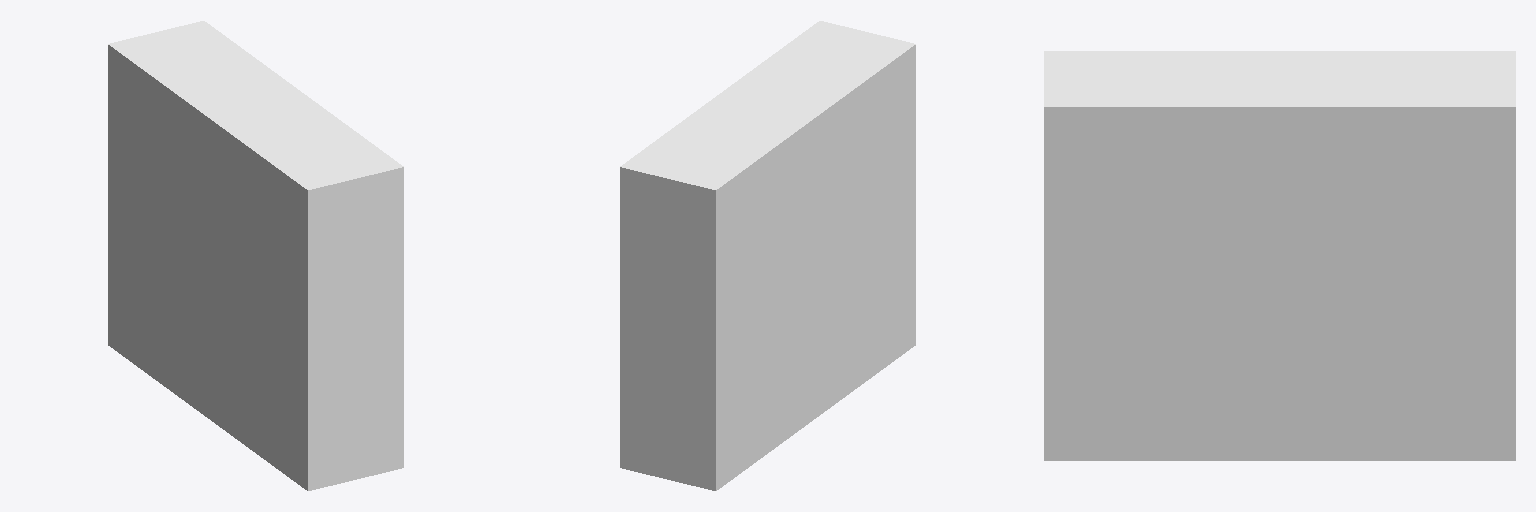
URDF robot description (test.urdf):
<?xml version="1.0" ?>
<robot name="test.urdf">
  <link name="baseLink">
    <contact>
      <friction_anchor/>
<!--       <stiffness value="30000.0"/>
      <damping value="1000.0"/> -->
<!--       <spinning_friction value="0.1"/>
 --><!--       <lateral_friction value="5.0"/> -->
    <!--   <inertia_scaling value="3.0"/> -->
      <lateral_friction value="1"/>
      <rolling_friction value="0.1"/>
    </contact>
    <inertial>
      <origin rpy="0 0 0" xyz="0.00 0 0.00"/>
       <mass value="2"/>
       <inertia ixx="1" ixy="0" ixz="0" iyy="1" iyz="0" izz="1"/>
    </inertial>
    <visual>
      <origin rpy="0 0 0" xyz="0 0 0"/>
      <geometry>
				<mesh filename="model_normalized.processed.obj" scale="1 1 1"/>
      </geometry>
       <material name="white">
        <color rgba="1 1 1 1"/>
      </material>
    </visual>
    <collision>
      <origin rpy="0 0 0" xyz="0 0 0"/>
      <geometry>
	 	<mesh filename="model_normalized_convex.obj" scale="1 1 1"/>
      </geometry>
    </collision>
  </link>
</robot>

--- What the picture shows (computed from the rendered views, not written in the file) ---
The picture shows the robot from 3 angles, left to right: view 1: azimuth 30°, elevation 25°; view 2: azimuth 150°, elevation 25°; view 3: azimuth 270°, elevation 25°; orthographic projection.
Model test.urdf with 1 links and 0 joints (none), rooted at baseLink, posed all joints at 0.
Visible links, largest first — view 1: baseLink; view 2: baseLink; view 3: baseLink.
Link boxes in pixels (left/top/right/bottom): baseLink: left=108, top=21, right=403, bottom=490; baseLink: left=620, top=21, right=915, bottom=490; baseLink: left=1044, top=51, right=1515, bottom=460.
Size in the robot's own frame: 0.0538 by 0.1937 by 0.1607 metres.
1 mesh visuals loaded from 1 distinct referenced files (1 OBJ).